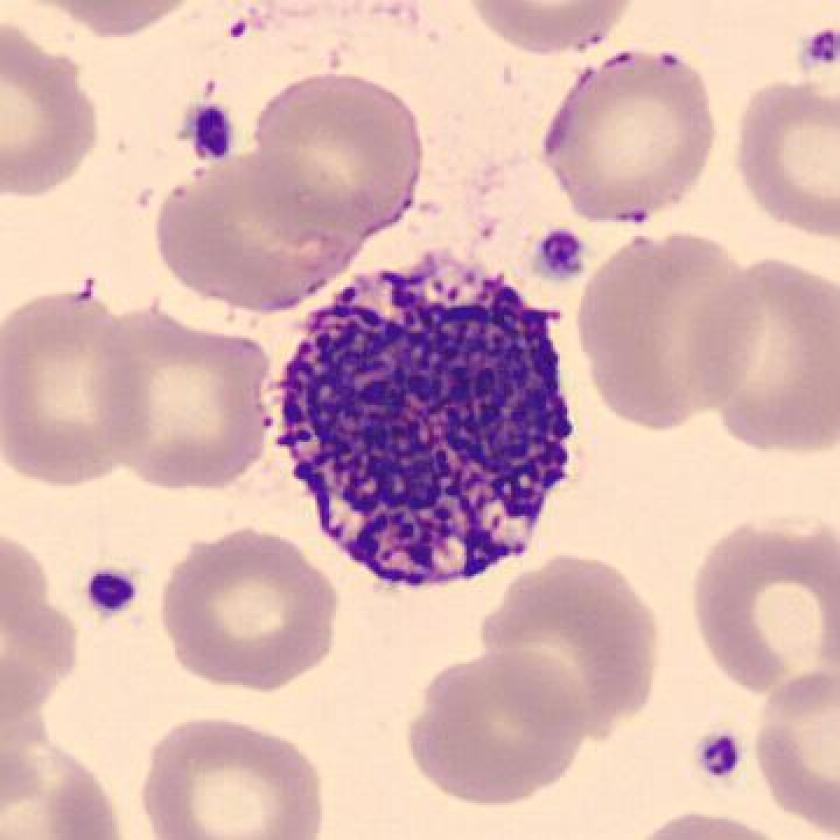basophil: (279, 253, 575, 603)
